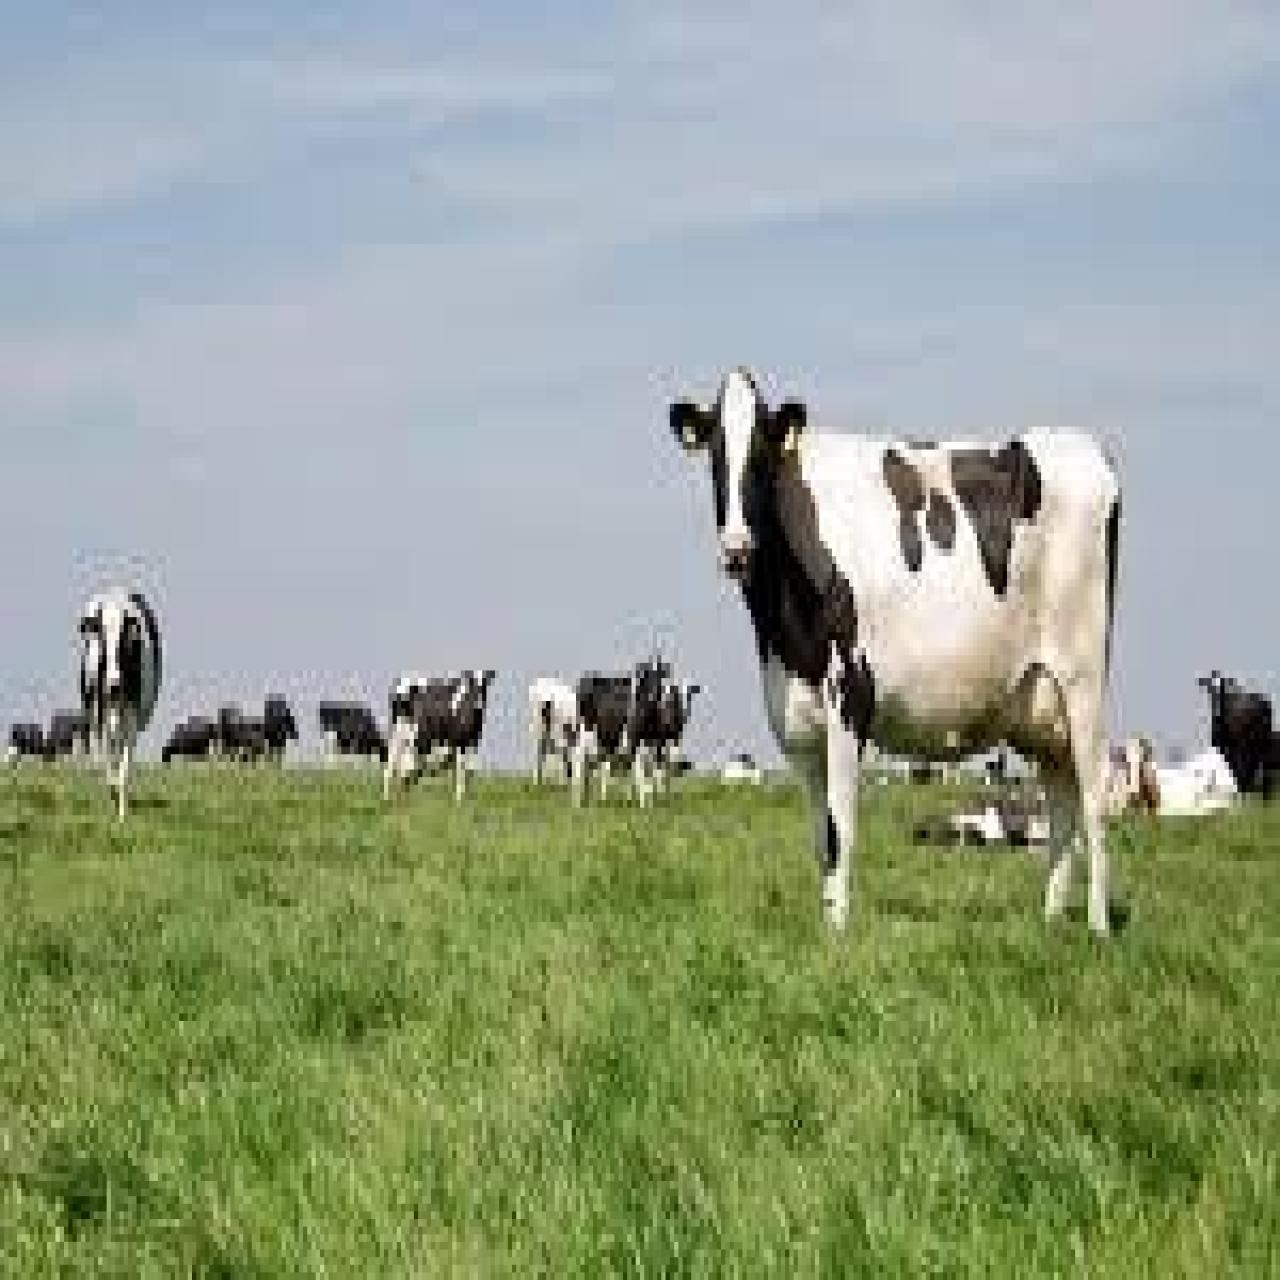cow: (672, 358, 1121, 952), (75, 594, 164, 831), (386, 662, 497, 816), (576, 655, 670, 815), (1199, 667, 1272, 796), (1116, 743, 1235, 811), (529, 682, 580, 788), (318, 704, 387, 765)
